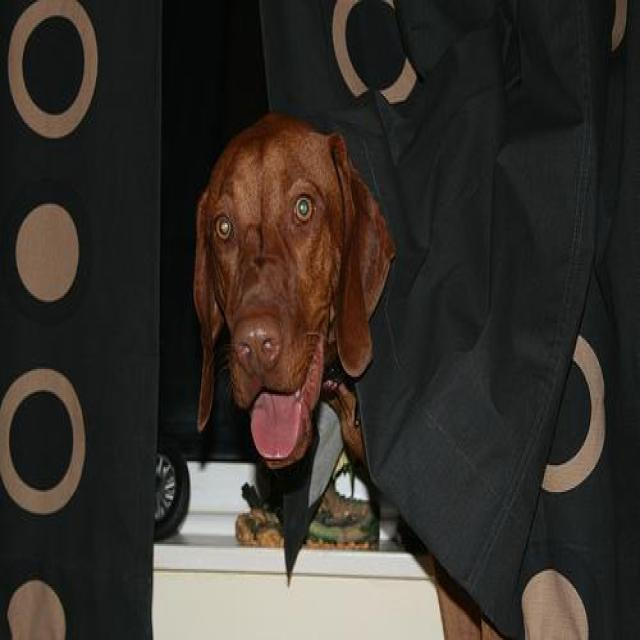vizsla: (191, 119, 394, 471)
